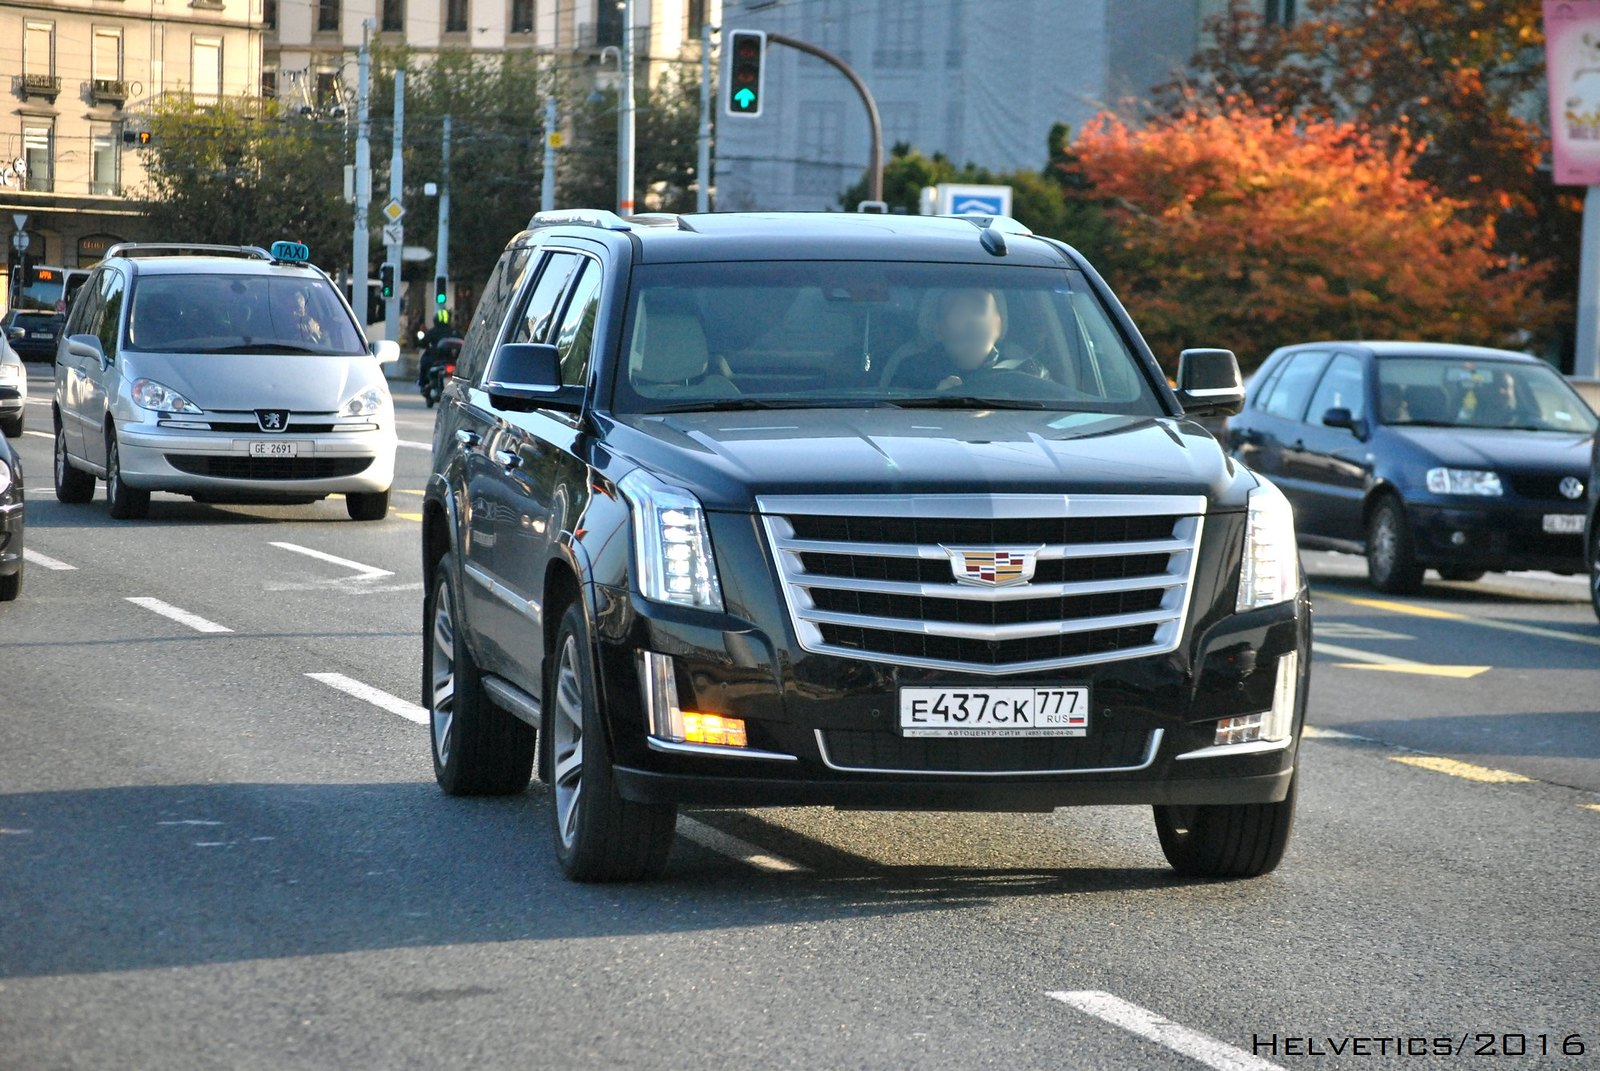car_front: (637, 459, 1296, 807), (113, 368, 391, 494), (1413, 448, 1600, 571)
plate: (899, 683, 1089, 726), (1543, 510, 1587, 533), (246, 440, 296, 459)
